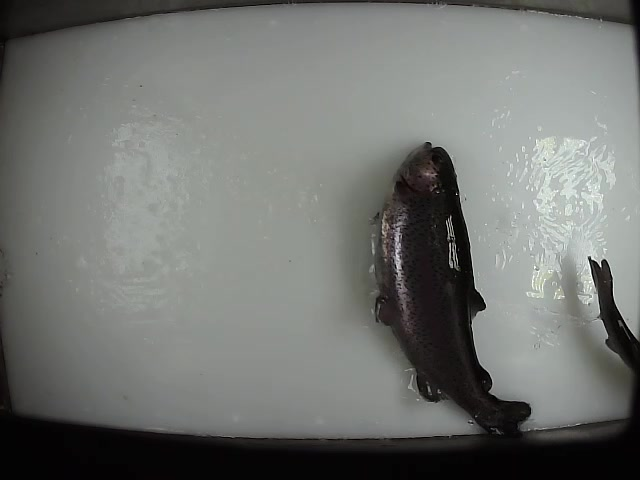fish: (365, 140, 535, 439), (586, 251, 640, 378)
